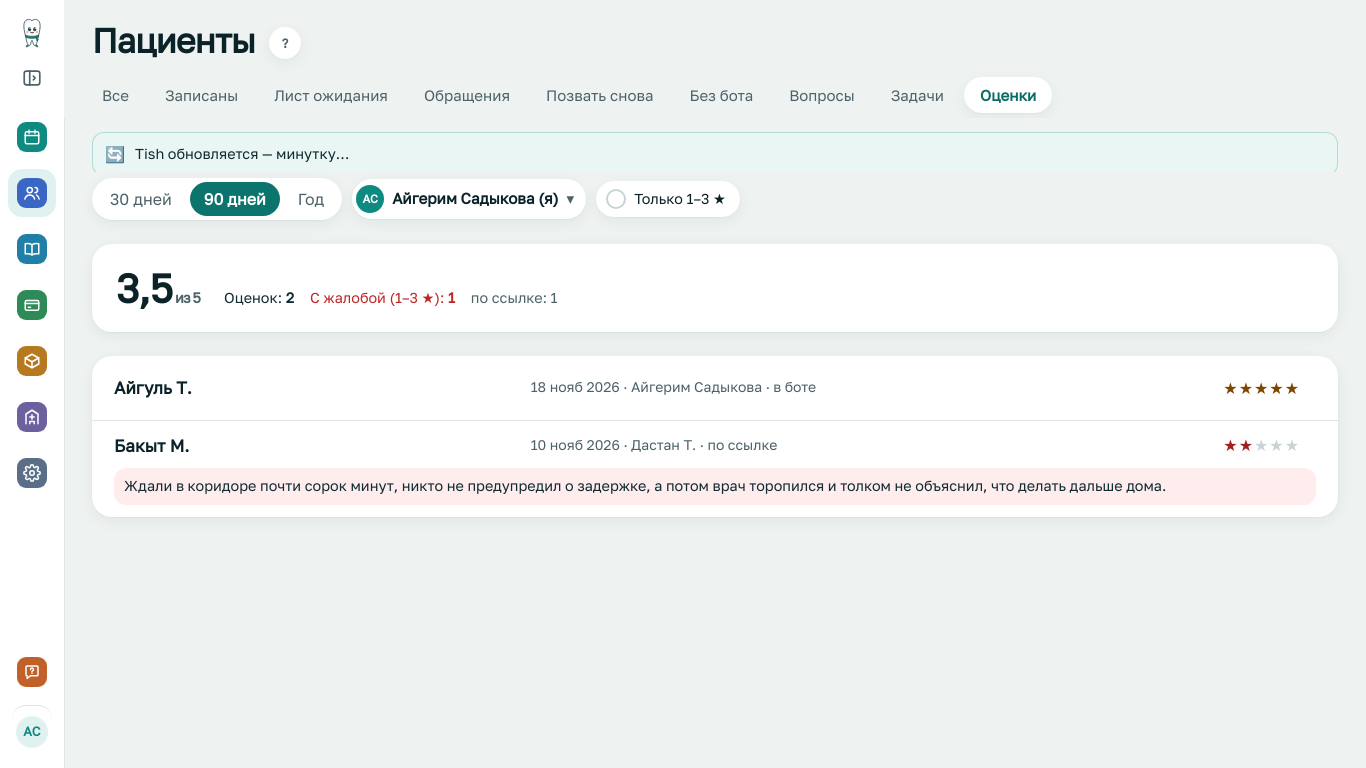
Test: сводка и список: новые сверху, врач, канал, звёзды; «Только 1–3 ★» и врач уходят на сервер; строка открывает приём
Expected: the text named "Средняя оценка" reads "3,5", [116,264,172,312]
Expected: the element named "Сводка оценок" shows "Оценок: 2", [92,244,1338,332]
Click the checkbox labelled "Только 1–3 ★": click(616, 199) [606,189,626,209]
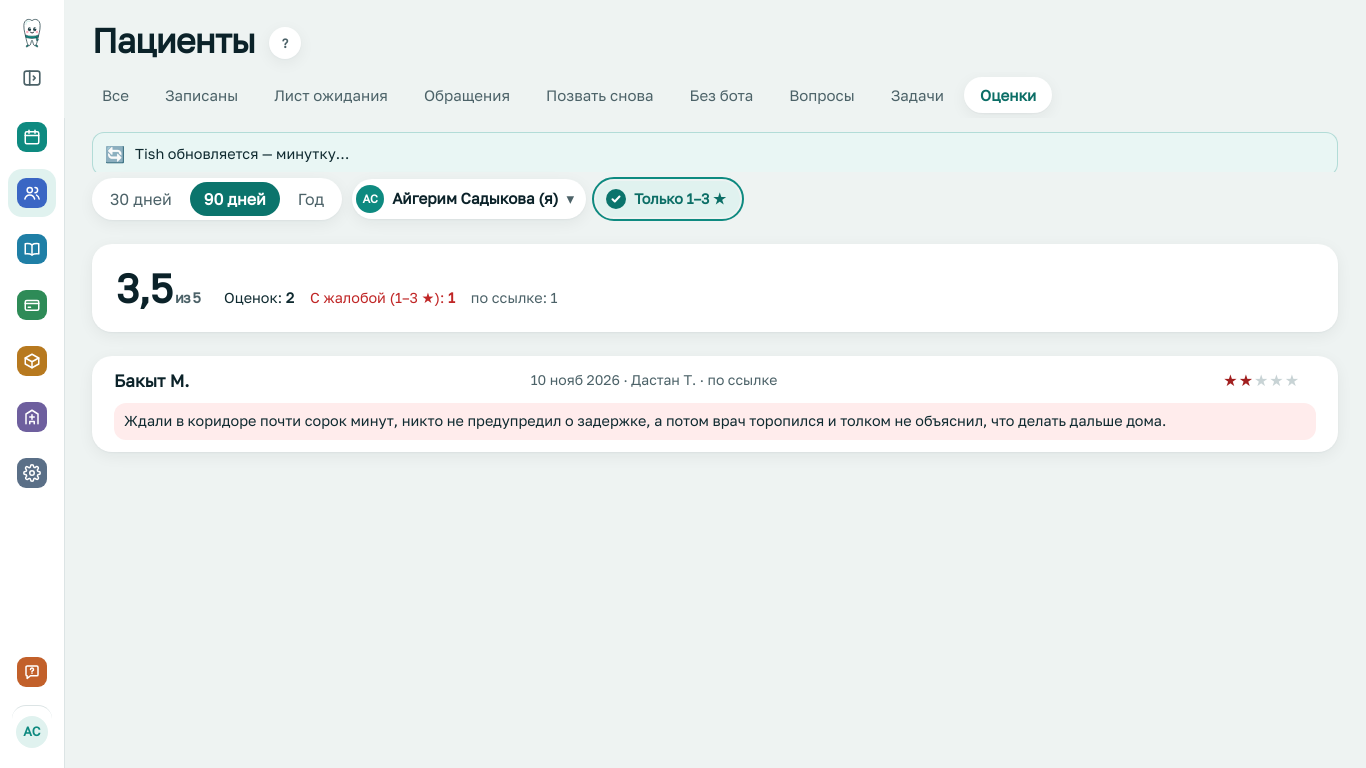
Expected: the button "Бакыт М." is shown, [114,368,189,393]
Expected: the button "Айгуль Т." is gone
Click the button "Год": click(311, 199) [284,182,338,216]
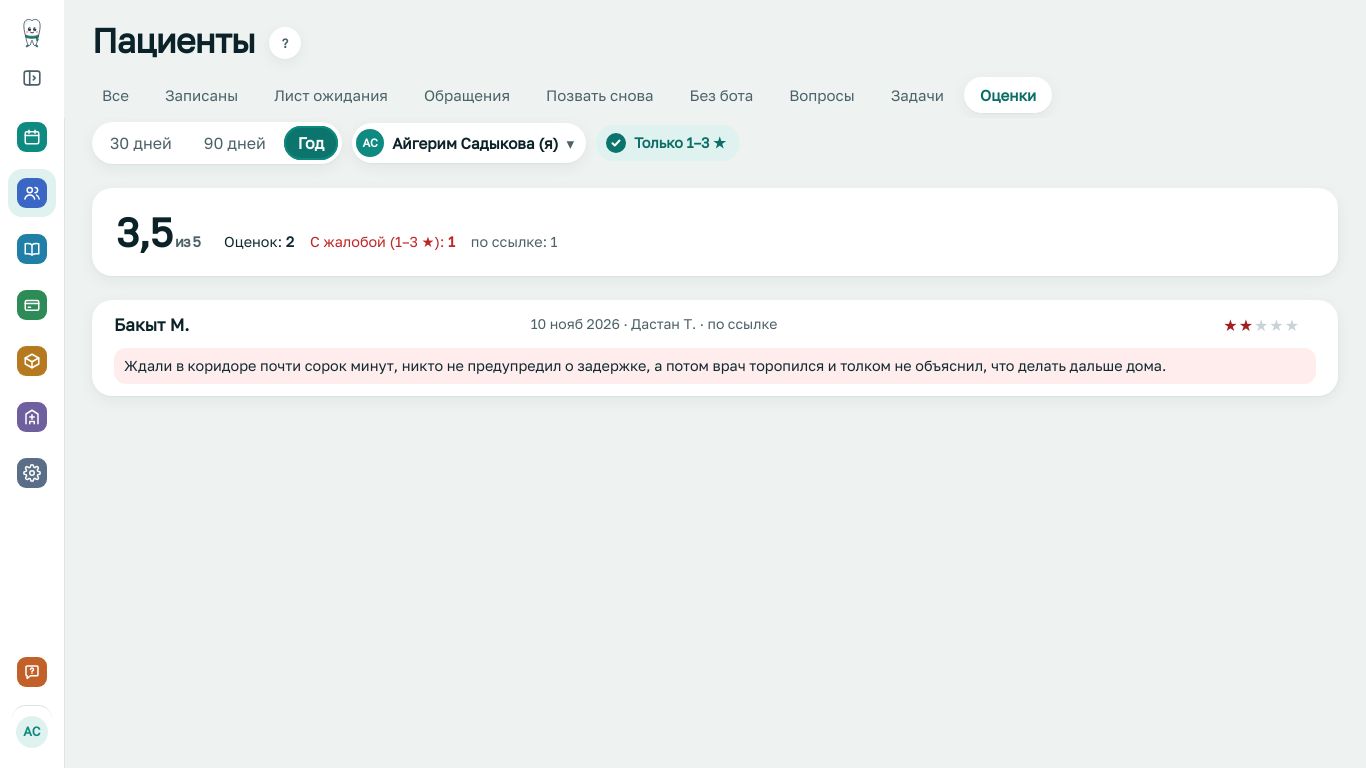
Click the button with aria-label "Врач:": click(469, 143) [352,123,586,163]
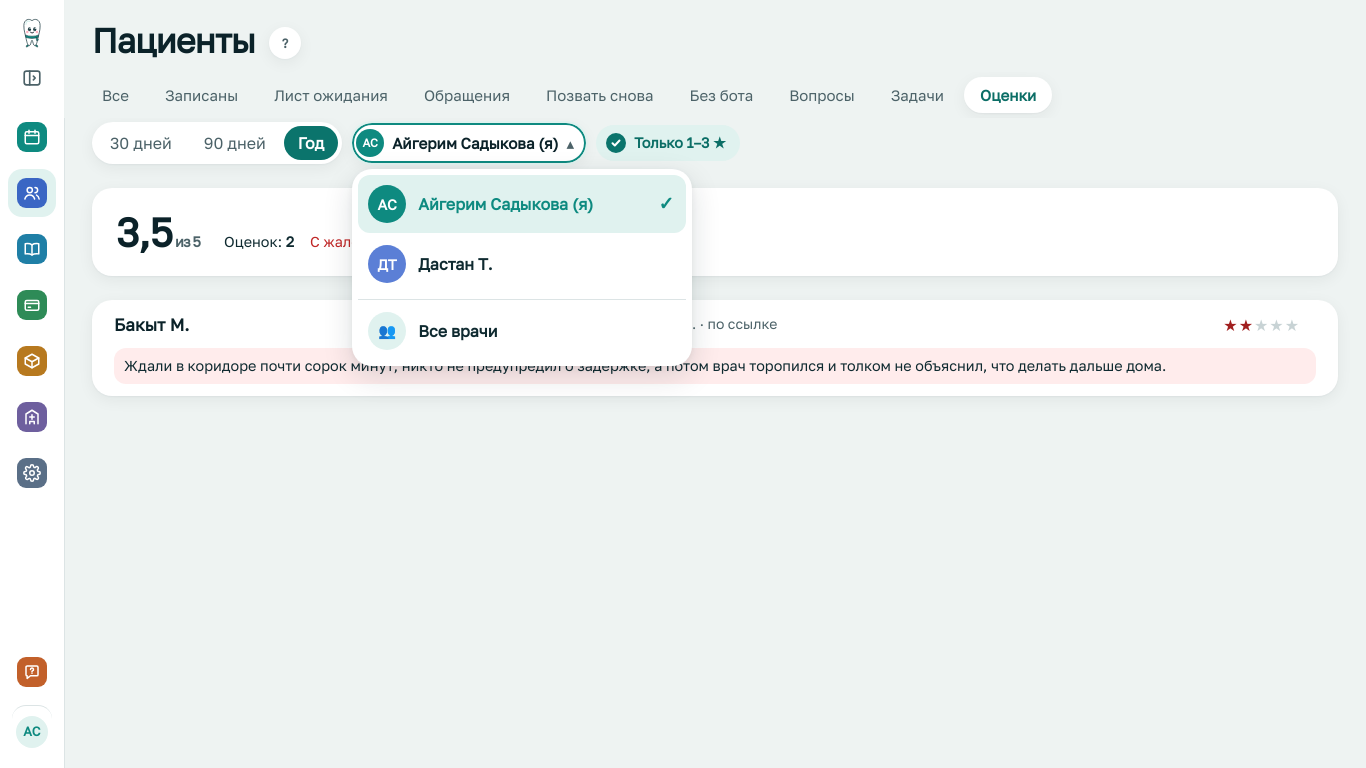
Click the option "ДТ Дастан Т.": click(430, 264) [368,245,493,283]
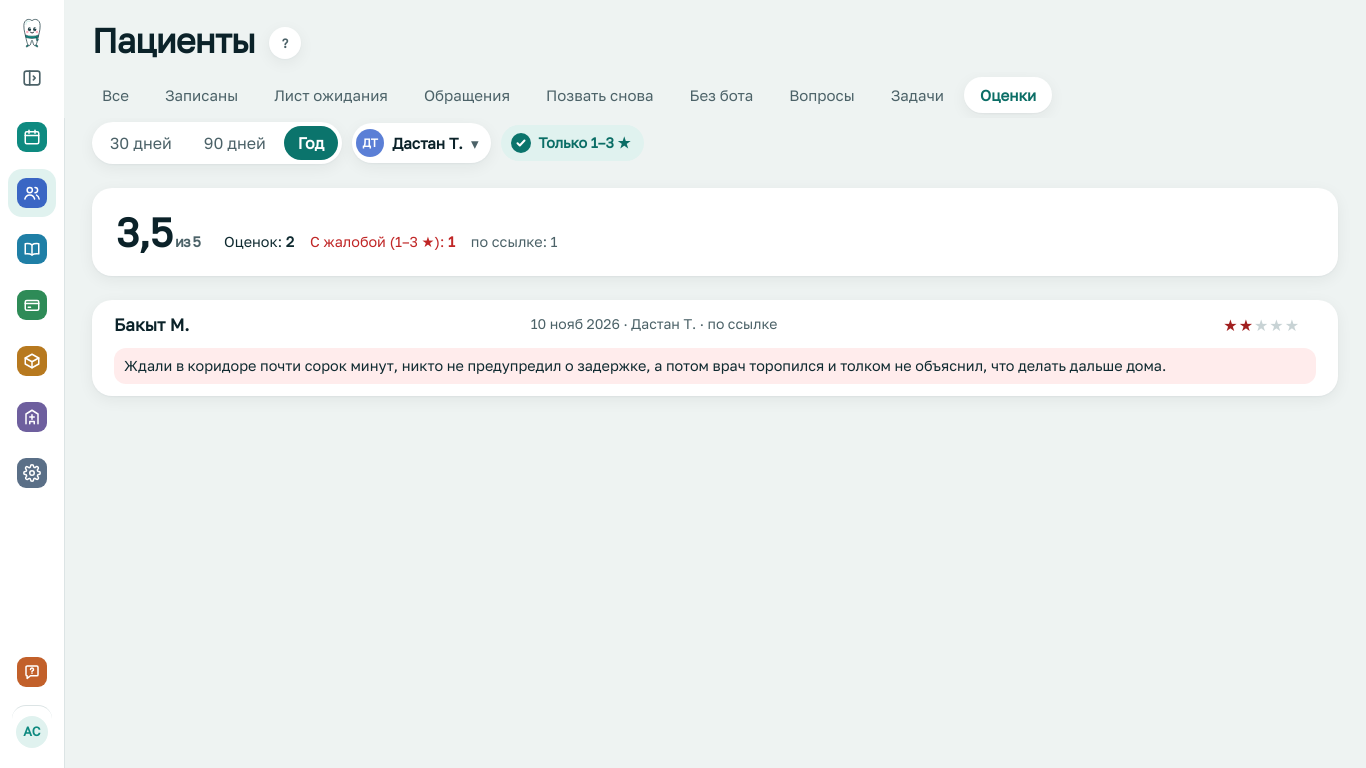
Click the checkbox labelled "Только 1–3 ★": click(520, 143) [510,133,530,153]
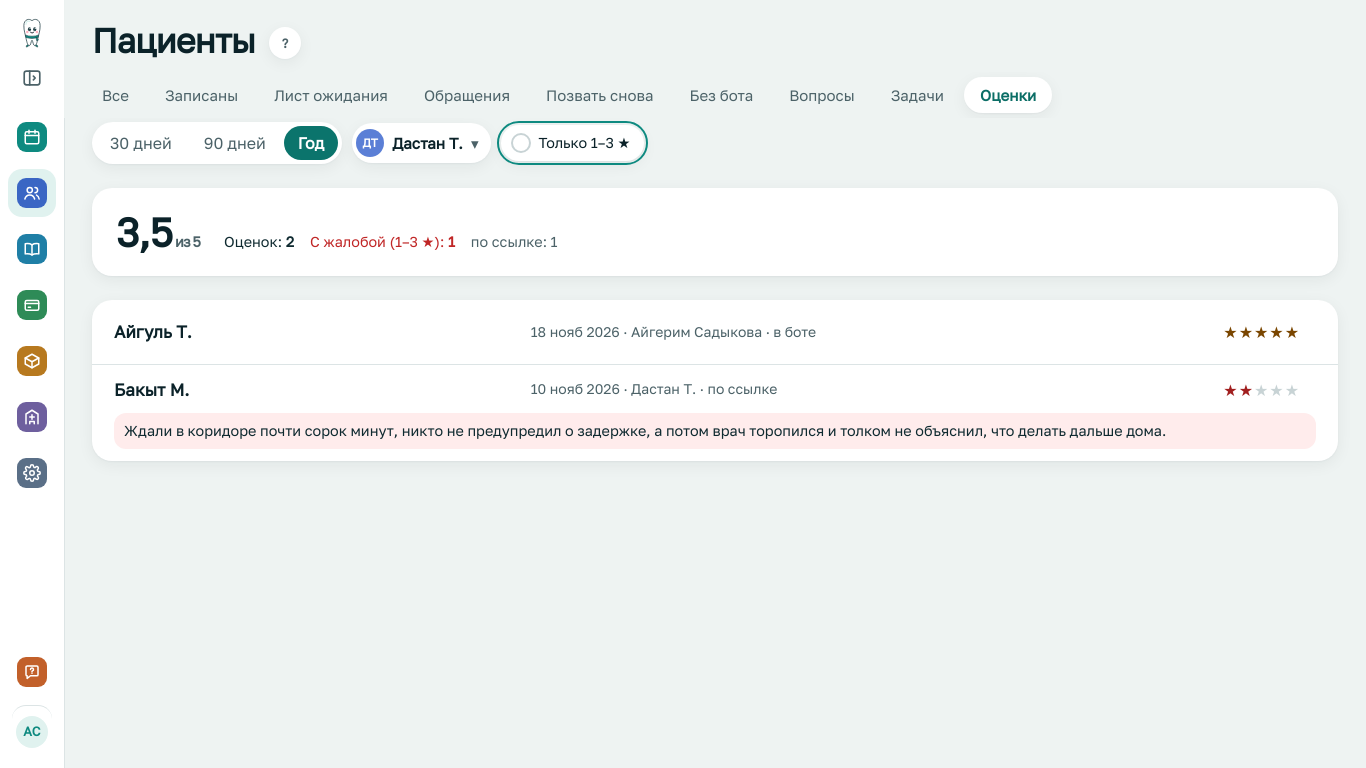
Click the button "Айгуль Т.": click(153, 332) [114,319,192,345]
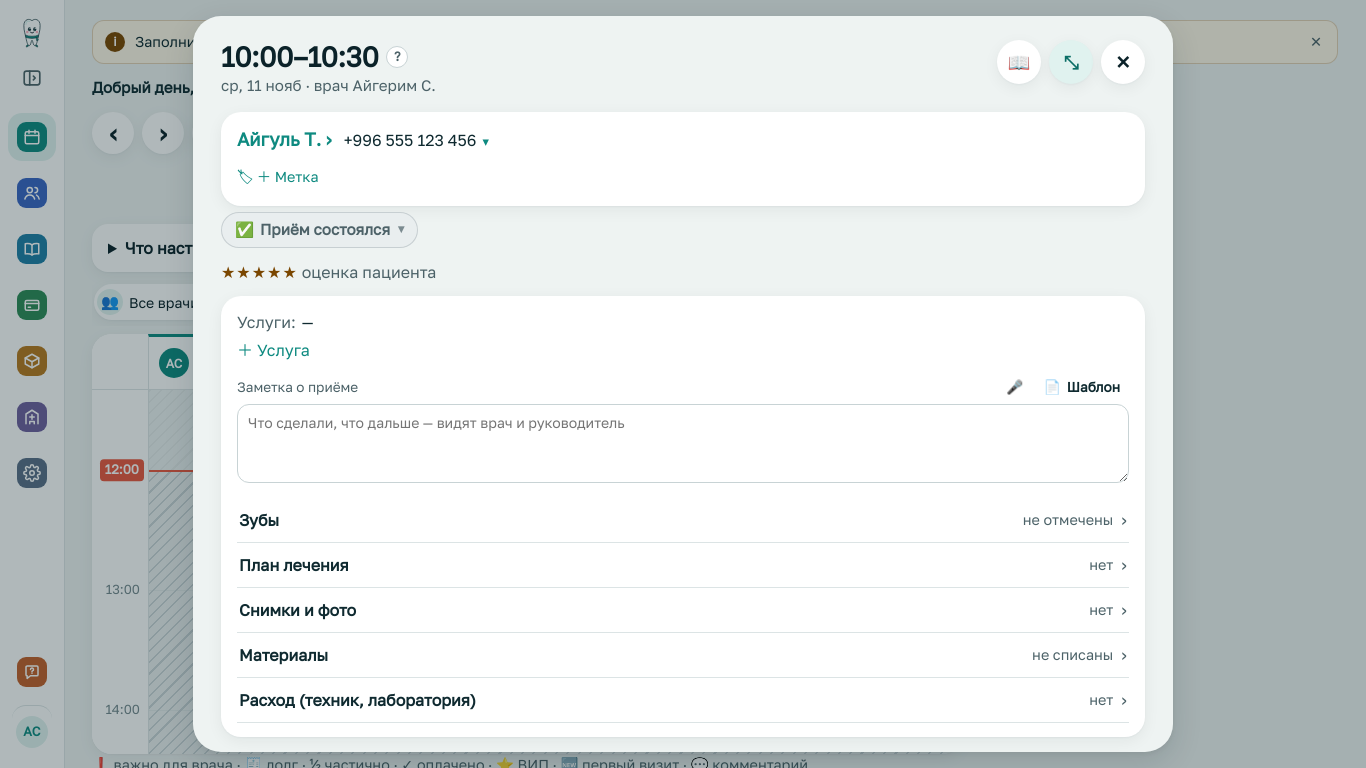
Expected: the element named "Карточка приёма" shows "Айгуль Т.", [237,126,332,154]
